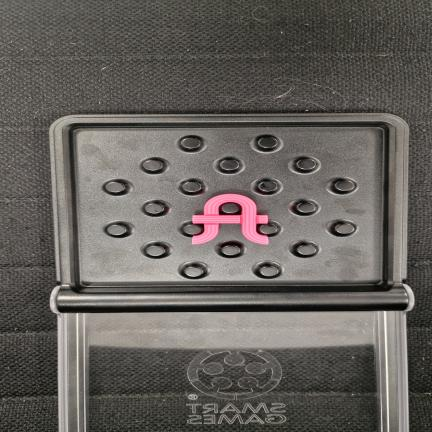G_Pink: (192, 194, 268, 244)
board: (49, 113, 413, 312)
hinge: (52, 288, 410, 313)
pin: (143, 159, 163, 172), (145, 245, 166, 257), (258, 136, 277, 149), (181, 137, 201, 149), (296, 158, 316, 170), (105, 181, 125, 193), (258, 181, 278, 193), (335, 180, 355, 192), (296, 202, 316, 214), (107, 224, 127, 236), (258, 223, 278, 235), (334, 223, 354, 235), (259, 265, 279, 277), (220, 159, 239, 171), (297, 244, 316, 256), (182, 182, 202, 193), (145, 203, 165, 214), (183, 266, 203, 277), (221, 203, 240, 214), (183, 224, 202, 235), (221, 245, 240, 256)
